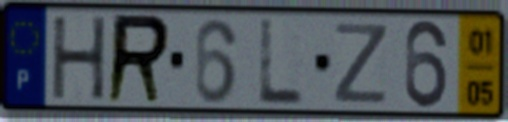6: (402, 18, 449, 111), (193, 15, 240, 106)
H: (49, 14, 109, 103)
L: (255, 16, 308, 107)
R: (102, 11, 174, 107)
Z: (331, 20, 392, 106)
